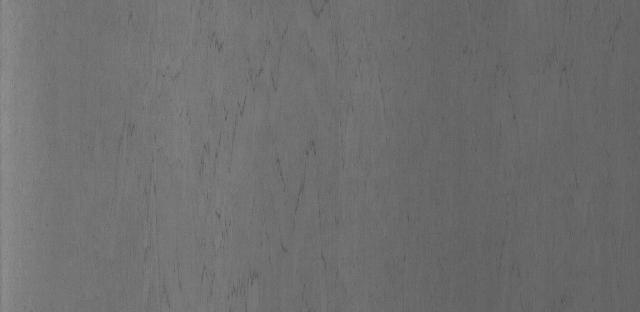silk_spot: (156, 27, 320, 282)
